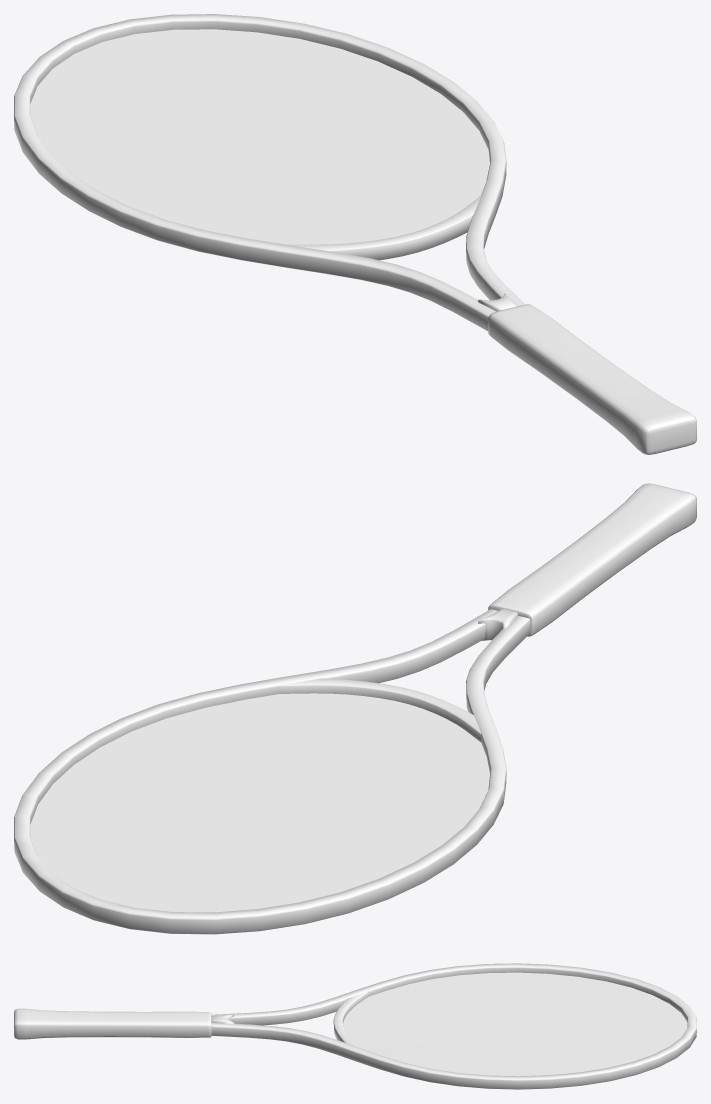
File: qiupai.FBX
3 views of the same model, one above another, from view 1: azimuth 30°, elevation 25°; view 2: azimuth 150°, elevation 25°; view 3: azimuth 270°, elevation 25° (orthographic). The views are drawn at different scales.
Parts seen in each view (by area): view 1: archmodels81_030_02; view 2: archmodels81_030_02; view 3: archmodels81_030_02.
Part boxes in pixels (box(x1,y1,x2,y2)): archmodels81_030_02: box(14, 14, 696, 454); archmodels81_030_02: box(14, 483, 696, 934); archmodels81_030_02: box(14, 963, 696, 1089).
Size of the model in its own units: 48.08 by 3.45 by 119.
